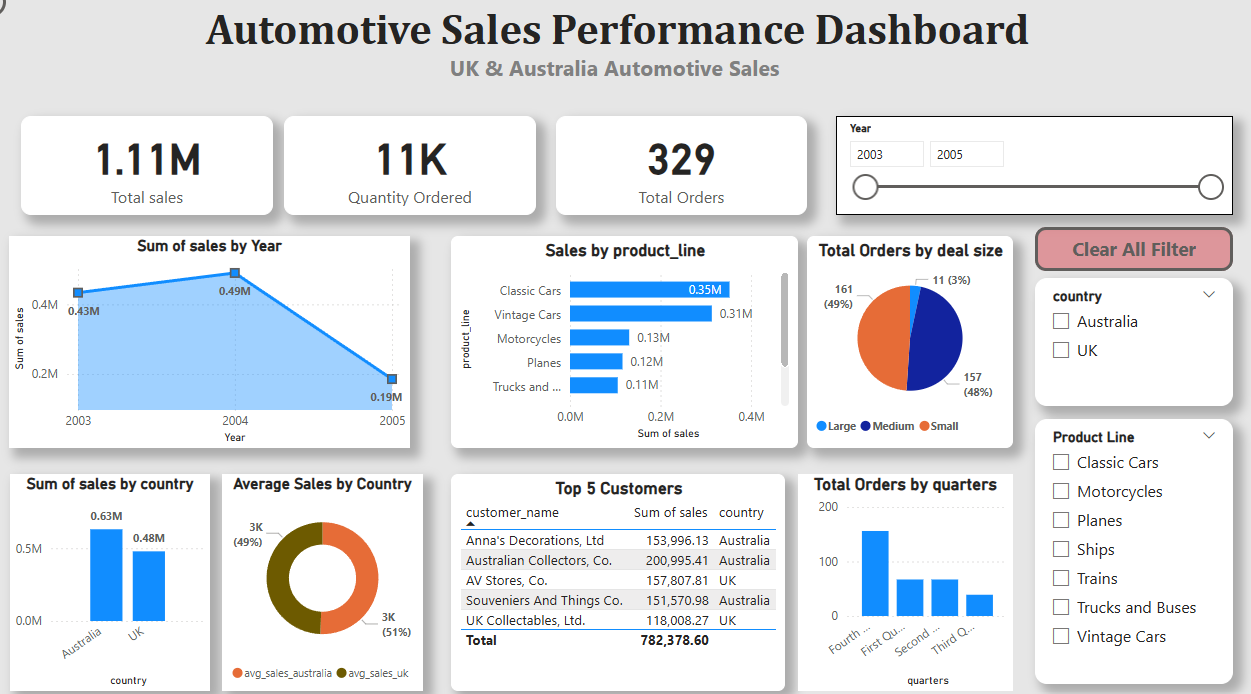

Layout of this report page (visuals, bound fields, positions):
{"tool":"powerbi","page":{"name":"Dashboard","canvas":[1280,720],"ordinal":0},"visuals":[{"type":"textbox","box":[117,16,1059,99],"z":0},{"type":"card","fields":{"Values":["Sum(Working sheet.sales)"]},"box":[50,134,252,99],"z":1000},{"type":"card","fields":{"Values":["Sum(Working sheet.quantity_ordered)"]},"box":[313,134,252,99],"z":2000},{"type":"card","fields":{"Values":["Working sheet.Total Orders"]},"box":[585,134,251,99],"z":3000},{"type":"lineChart","fields":{"Y":["Sum(Working sheet.sales)"],"Category":["Working sheet.order_date.Variation.Date Hierarchy.Year"]},"box":[38,254,401,212],"z":4000},{"type":"barChart","title":"Sales by product_line","fields":{"Y":["Sum(Working sheet.sales)"],"Category":["Working sheet.product_line"]},"box":[480,254,347,212],"z":5000},{"type":"clusteredColumnChart","fields":{"Y":["Sum(Working sheet.sales)"],"Category":["Working sheet.country"]},"box":[39,492,200,217],"z":6000},{"type":"tableEx","title":"Top 5 Customers","fields":{"Values":["Working sheet.customer_name","Sum(Working sheet.sales)","Working sheet.country"]},"box":[480,492,334,217],"z":7000},{"type":"columnChart","fields":{"Category":["Working sheet.quarters"],"Y":["Working sheet.Total Orders"]},"box":[827,492,215,217],"z":8000},{"type":"slicer","fields":{"Values":["Working sheet.order_date.Variation.Date Hierarchy.Year"]},"box":[865,134,397,99],"z":9000},{"type":"slicer","fields":{"Values":["Working sheet.country"]},"box":[1064,296,198,128],"z":10000},{"type":"slicer","fields":{"Values":["Working sheet.product_line"]},"box":[1064,437,198,265],"z":11000},{"type":"actionButton","box":[1064,245,198,44],"z":12000},{"type":"pieChart","title":"Total Orders by deal size","fields":{"Category":["Working sheet.deal_size"],"Y":["Working sheet.Total Orders"]},"box":[836,254,206,212],"z":13000},{"type":"donutChart","title":"Average Sales by Country","fields":{"Y":["Working sheet.avg_sales_australia","Working sheet.avg_sales_uk"]},"box":[251,492,201,217],"z":14000},{"type":"actionButton","box":[0,0,100,40],"z":14001}]}

Visuals, with their boxes in screenshot pixels (x1, y1, x2, y2), scaled from the page's 1280x720 canvas onto the 1251x694 screenshot:
textbox: pyautogui.locateOnScreen(114, 15, 1149, 111)
card - Sum(Working sheet.sales): pyautogui.locateOnScreen(49, 129, 295, 225)
card - Sum(Working sheet.quantity_ordered): pyautogui.locateOnScreen(306, 129, 552, 225)
card - Working sheet.Total Orders: pyautogui.locateOnScreen(572, 129, 817, 225)
lineChart - Sum(Working sheet.sales) x Working sheet.order_date.Variation.Date Hierarchy.Year: pyautogui.locateOnScreen(37, 245, 429, 449)
"Sales by product_line" barChart: pyautogui.locateOnScreen(469, 245, 808, 449)
clusteredColumnChart - Sum(Working sheet.sales) x Working sheet.country: pyautogui.locateOnScreen(38, 474, 234, 683)
"Top 5 Customers" tableEx: pyautogui.locateOnScreen(469, 474, 796, 683)
columnChart - Working sheet.quarters x Working sheet.Total Orders: pyautogui.locateOnScreen(808, 474, 1018, 683)
slicer - Working sheet.order_date.Variation.Date Hierarchy.Year: pyautogui.locateOnScreen(845, 129, 1233, 225)
slicer - Working sheet.country: pyautogui.locateOnScreen(1040, 285, 1233, 409)
slicer - Working sheet.product_line: pyautogui.locateOnScreen(1040, 421, 1233, 677)
actionButton: pyautogui.locateOnScreen(1040, 236, 1233, 279)
"Total Orders by deal size" pieChart: pyautogui.locateOnScreen(817, 245, 1018, 449)
"Average Sales by Country" donutChart: pyautogui.locateOnScreen(245, 474, 442, 683)
actionButton: pyautogui.locateOnScreen(0, 0, 98, 39)
